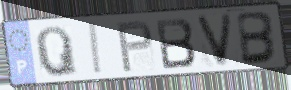B: (236, 10, 279, 67), (154, 17, 198, 71)
I: (88, 21, 105, 76)
P: (115, 19, 155, 75)
Q: (34, 24, 80, 78)
V: (193, 12, 235, 69)
